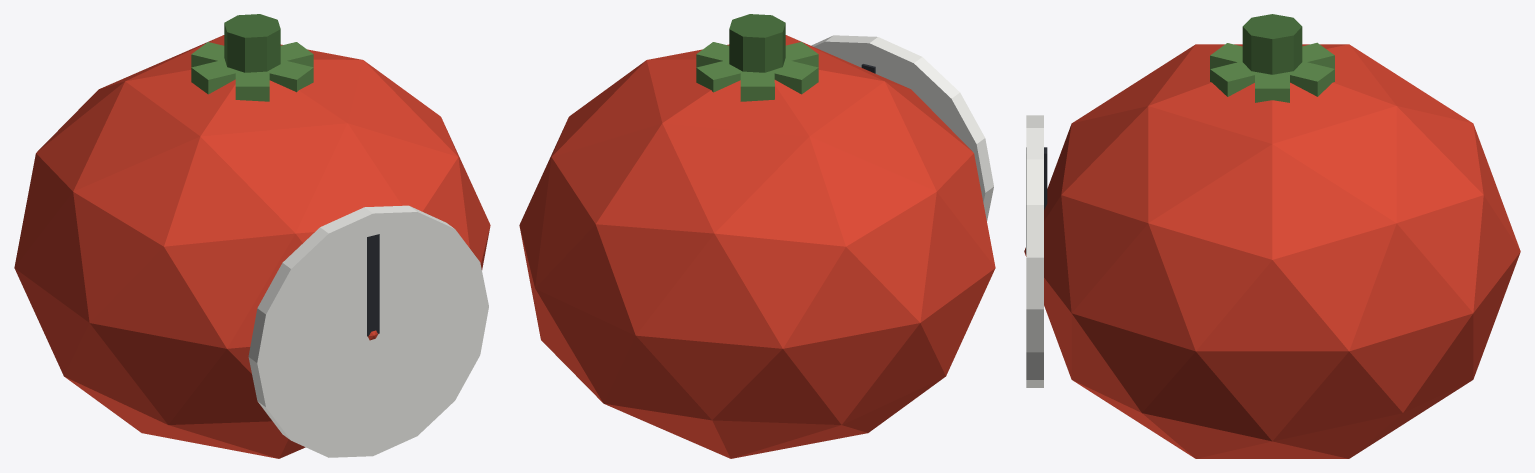
Rendered from tomato_shell.glb.
3 views of the same model, side by side, from view 1: azimuth 30°, elevation 25°; view 2: azimuth 150°, elevation 25°; view 3: azimuth 270°, elevation 25° (orthographic). The views are drawn at different scales.
Visible parts, largest first — view 1: tomato_shell_mesh; view 2: tomato_shell_mesh; view 3: tomato_shell_mesh.
Boxes of the visible parts, bbox=[...] form: tomato_shell_mesh: bbox=[14, 14, 490, 458]; tomato_shell_mesh: bbox=[519, 14, 995, 458]; tomato_shell_mesh: bbox=[1024, 14, 1520, 458].
Size of the model in its own units: 0.2663 by 0.259 by 0.28.
